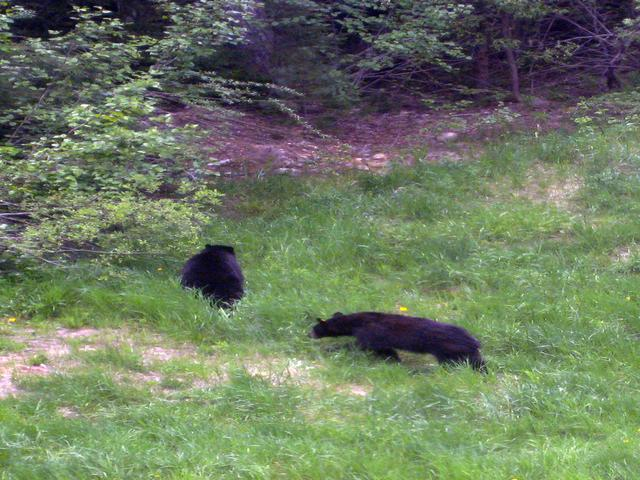Bear: (310, 306, 492, 377), (163, 240, 259, 302)
